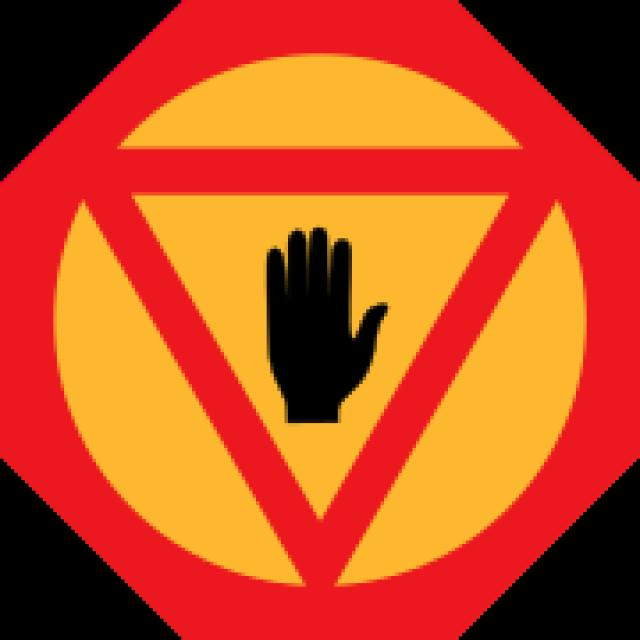Traffic sign: (16, 25, 610, 601)
